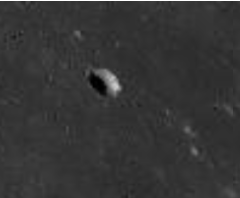crater: (68, 51, 148, 123)
